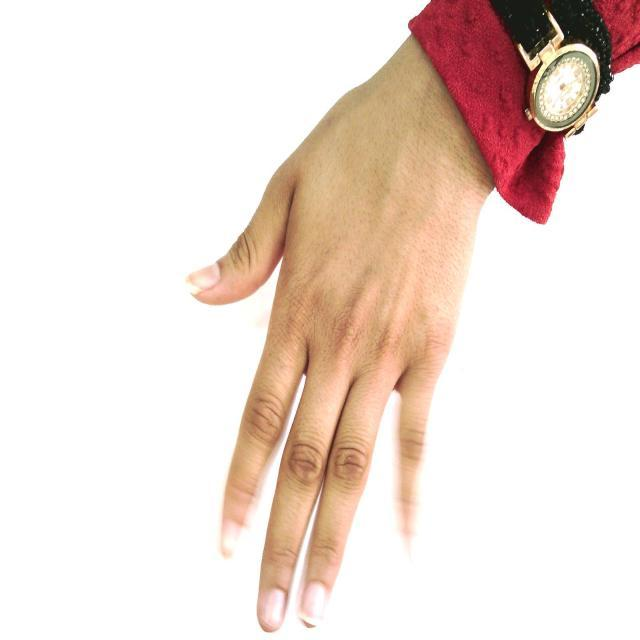Fingernail: (301, 582, 326, 624), (261, 589, 285, 629), (186, 265, 219, 292)
